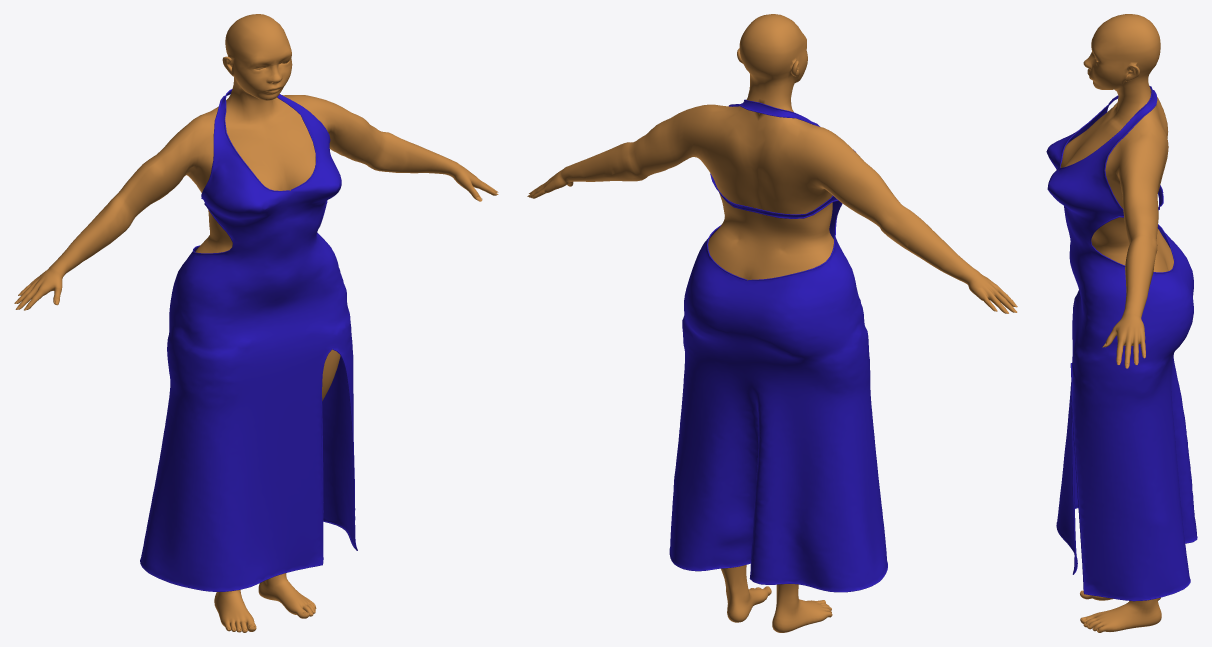
The model's file is dress9.glb.
3 renders of one model, left to right at view 1: azimuth 30°, elevation 25°; view 2: azimuth 150°, elevation 25°; view 3: azimuth 270°, elevation 25°, orthographic.
Visible parts, largest first — view 1: EveningDress, Body; view 2: EveningDress, Body; view 3: EveningDress, Body.
Boxes of the visible parts, x1,y1,x2,y2 form: EveningDress: [140, 89, 357, 591]; Body: [17, 14, 497, 632]; EveningDress: [669, 99, 887, 592]; Body: [529, 14, 1014, 632]; EveningDress: [1046, 86, 1197, 601]; Body: [1060, 14, 1173, 632].
Bounding box in the file's own units: 1.58 × 1.85 × 0.4261.
